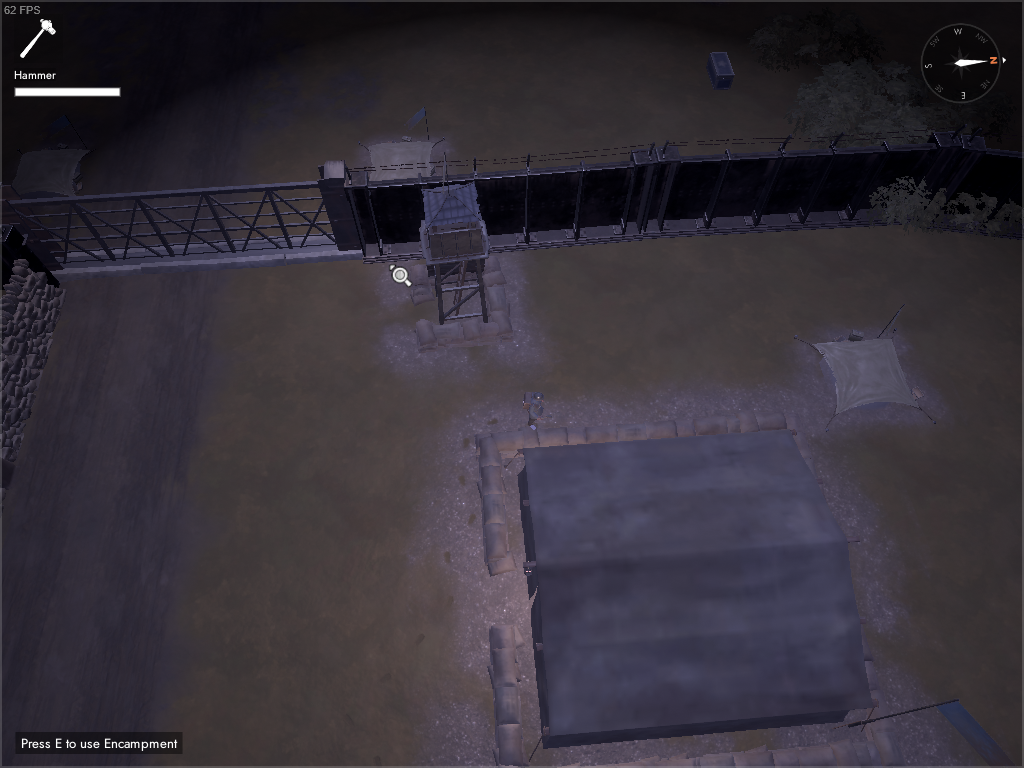fortified_wall: (651, 117, 964, 250), (341, 140, 660, 260), (936, 107, 1024, 239)
foxhole: (790, 298, 947, 441), (349, 105, 451, 192), (2, 137, 104, 211)
player: (518, 387, 551, 435)
raised_gate: (1, 156, 366, 287)
storage_box: (704, 47, 738, 93)
watchtower: (396, 148, 521, 357)
